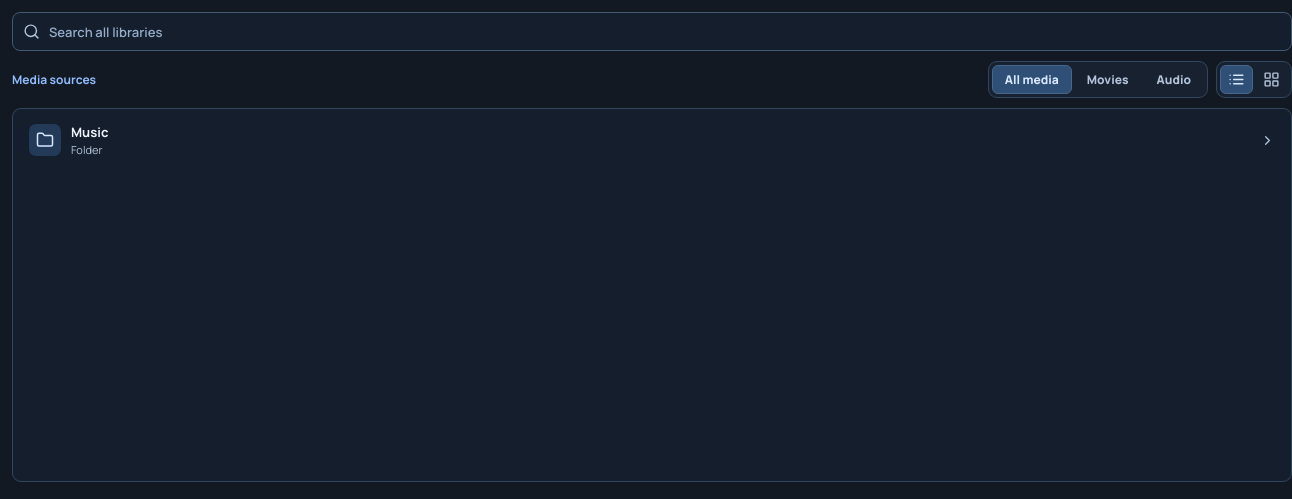
sends the arrow-selected media file live with Ctrl+Enter
Later steps or results of the test are not shown.
Click the button with class "media-result". click: (45, 140)
box: [19,115,1285,165]
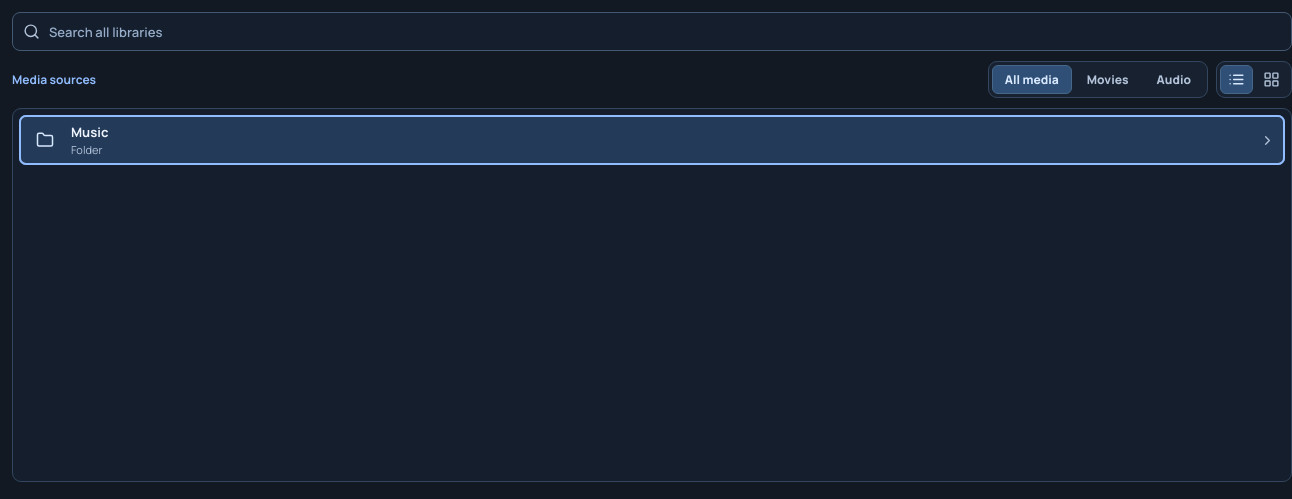
expect the button with class "media-result" has attribute data-selected: met, box [19,115,1285,165]
